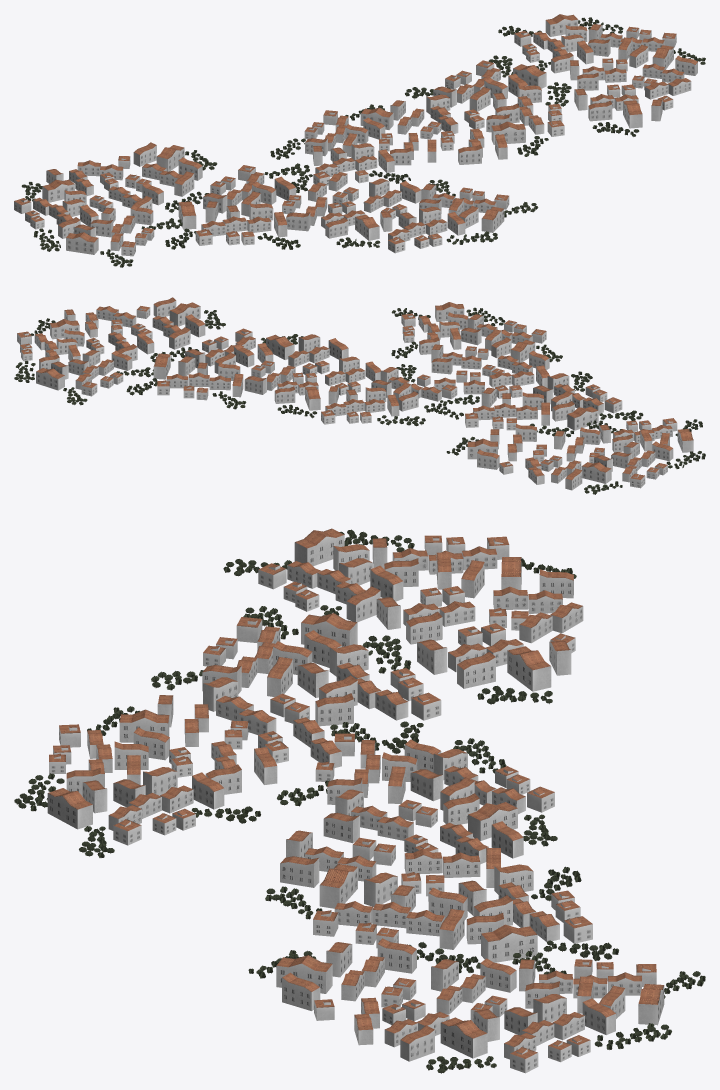
The model's file is Pueblo_andaluz.FBX.
3 views of the same model, one above another, from view 1: azimuth 30°, elevation 25°; view 2: azimuth 150°, elevation 25°; view 3: azimuth 270°, elevation 25° (orthographic). The views are drawn at different scales.
Visible parts, largest first — view 1: Line64, Line110, Line118, Line141, Line56, Line76, Line08, Line87, Line16, Line153, Line40, Line149 (+3 smaller); view 2: Line40, Line56, Line153, Line110, Line141, Line76, Line133, Line16, Line118, Line08, Line77, Line147 (+11 smaller); view 3: Line118, Line76, Line133, Line16, Line153, Line64, Line110, Line40, Line87, Line08, Line72, Line124 (+21 smaller).
Boxes of the visible parts, <box> form: Line64: <box>66,232,98,254</box>; Line110: <box>491,121,525,144</box>; Line118: <box>513,64,546,88</box>; Line141: <box>545,14,578,36</box>; Line56: <box>42,179,74,202</box>; Line76: <box>156,145,184,171</box>; Line08: <box>355,214,379,240</box>; Line87: <box>360,107,393,129</box>; Line16: <box>481,207,504,232</box>; Line153: <box>623,100,642,128</box>; Line40: <box>178,201,196,229</box>; Line149: <box>588,100,612,121</box>; Line40: <box>567,406,598,430</box>; Line56: <box>581,462,611,483</box>; Line153: <box>169,302,200,326</box>; Line110: <box>266,334,294,359</box>; Line141: <box>36,368,64,390</box>; Line76: <box>467,438,497,459</box>; Line133: <box>50,319,79,339</box>; Line16: <box>435,302,464,321</box>; Line118: <box>153,353,170,379</box>; Line08: <box>510,340,535,362</box>; Line77: <box>477,449,499,469</box>; Line147: <box>169,327,190,349</box>; Line118: <box>481,924,537,962</box>; Line76: <box>507,646,551,691</box>; Line133: <box>440,1017,487,1058</box>; Line16: <box>47,788,92,829</box>; Line153: <box>276,955,332,993</box>; Line64: <box>294,528,344,566</box>; Line110: <box>319,864,357,908</box>; Line40: <box>301,613,357,646</box>; Line87: <box>468,802,517,840</box>; Line08: <box>119,709,169,742</box>; Line72: <box>457,652,495,688</box>; Line124: <box>280,856,319,887</box>.
Bounding box in the file's own units: 3799 × 88.97 × 2051.
5 materials, 5 textured.
